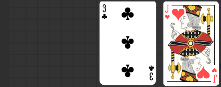3C: (148, 64, 156, 82)
